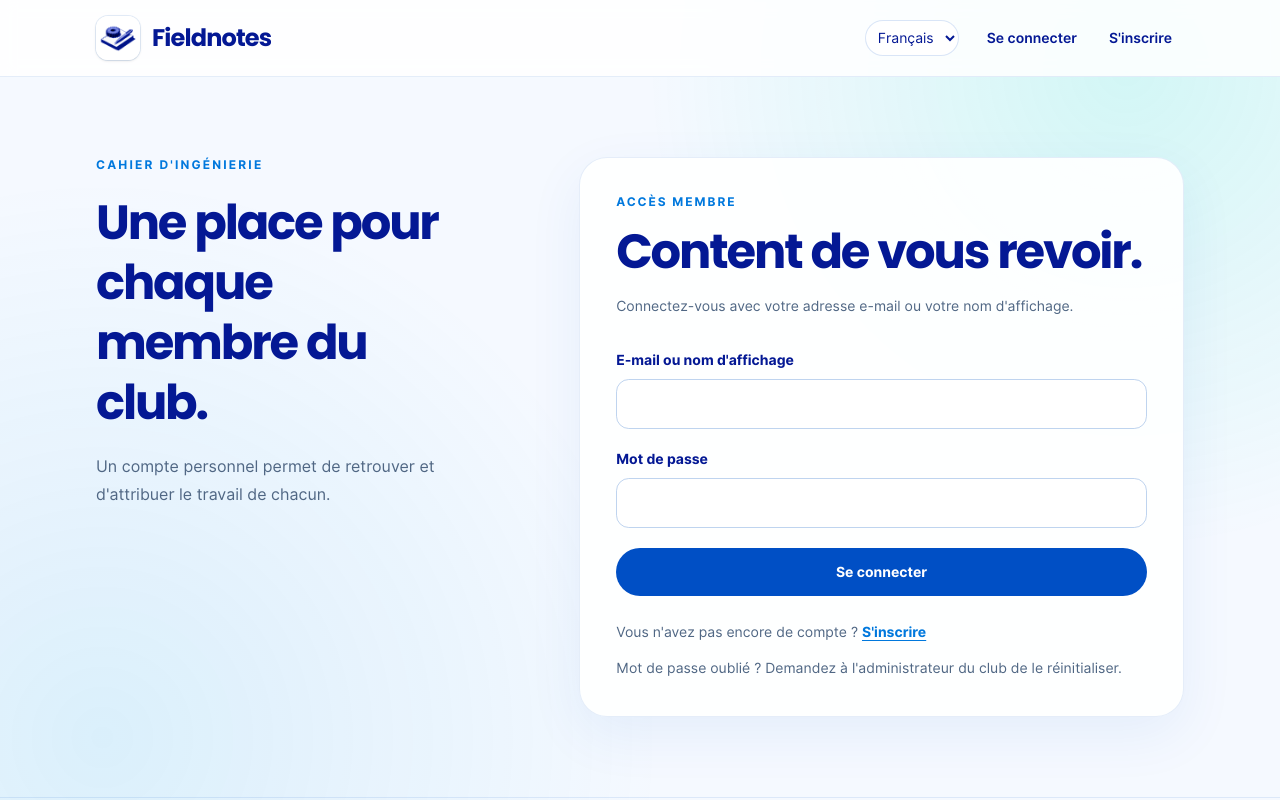
keeps the route and unsaved form values when switching on /login
Type "Mon brouillon" into the field labelled "E-mail ou nom d'affichage".
click(882, 404); type("Mon brouillon")  # box [616,379,1147,429]
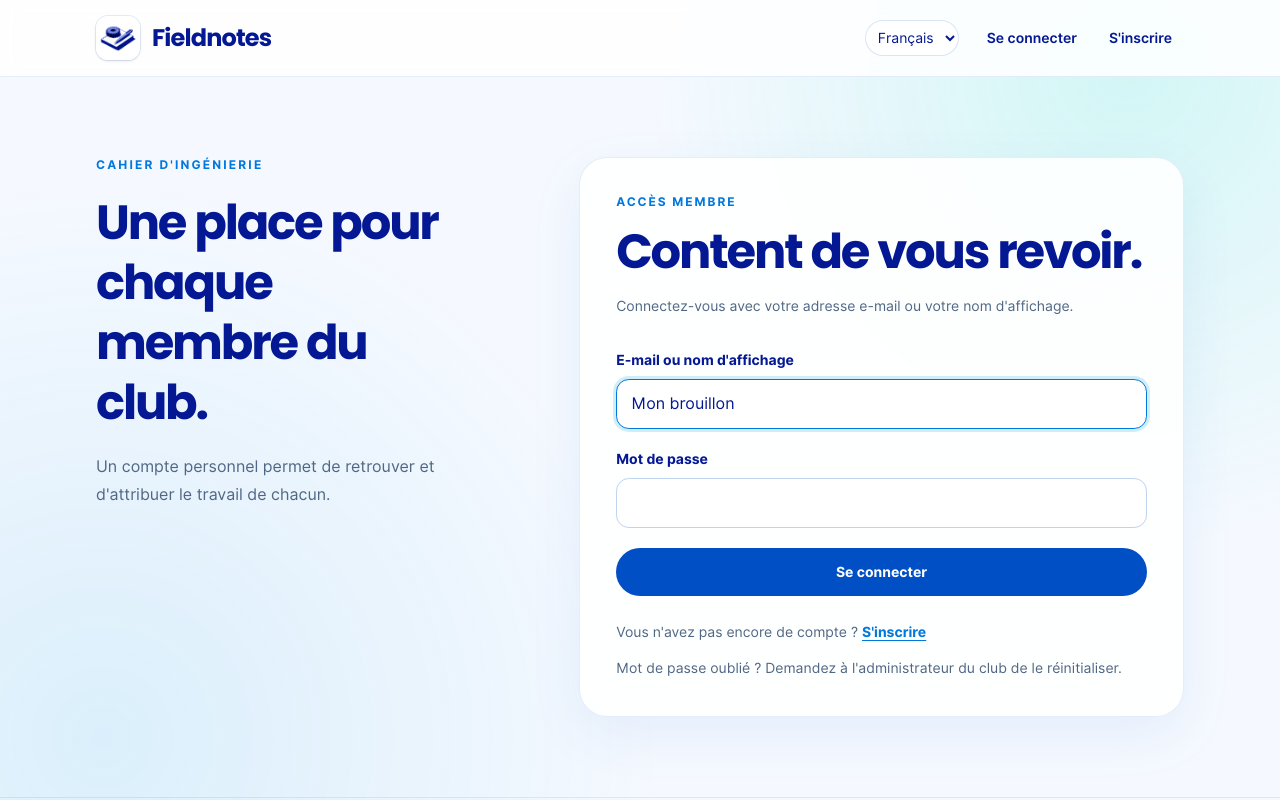
Type "secret-not-submitted" into the password field labelled "Mot de passe".
click(882, 503); type("secret-not-submitted")  # box [616,478,1147,528]
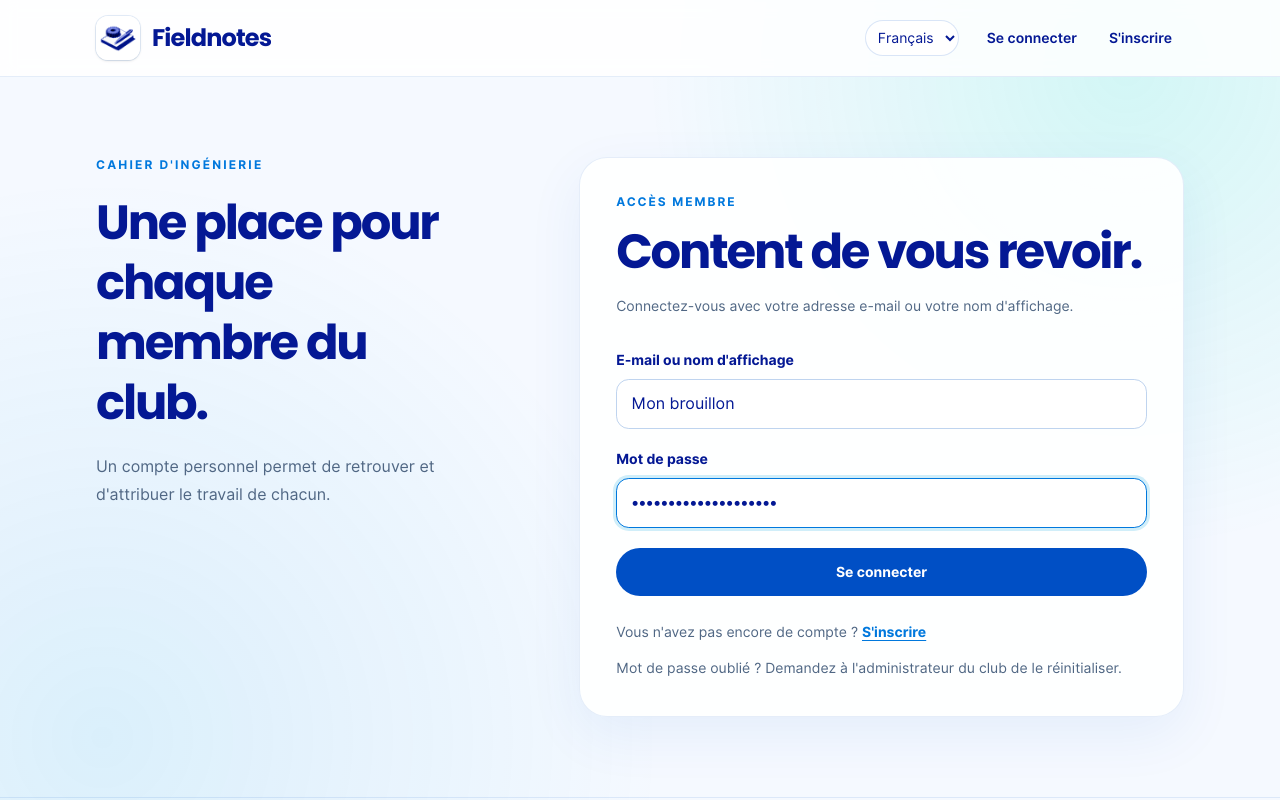
Select "English" in the dropdown named "Langue" at {"x": 912, "y": 38}, box [865,20,959,56]
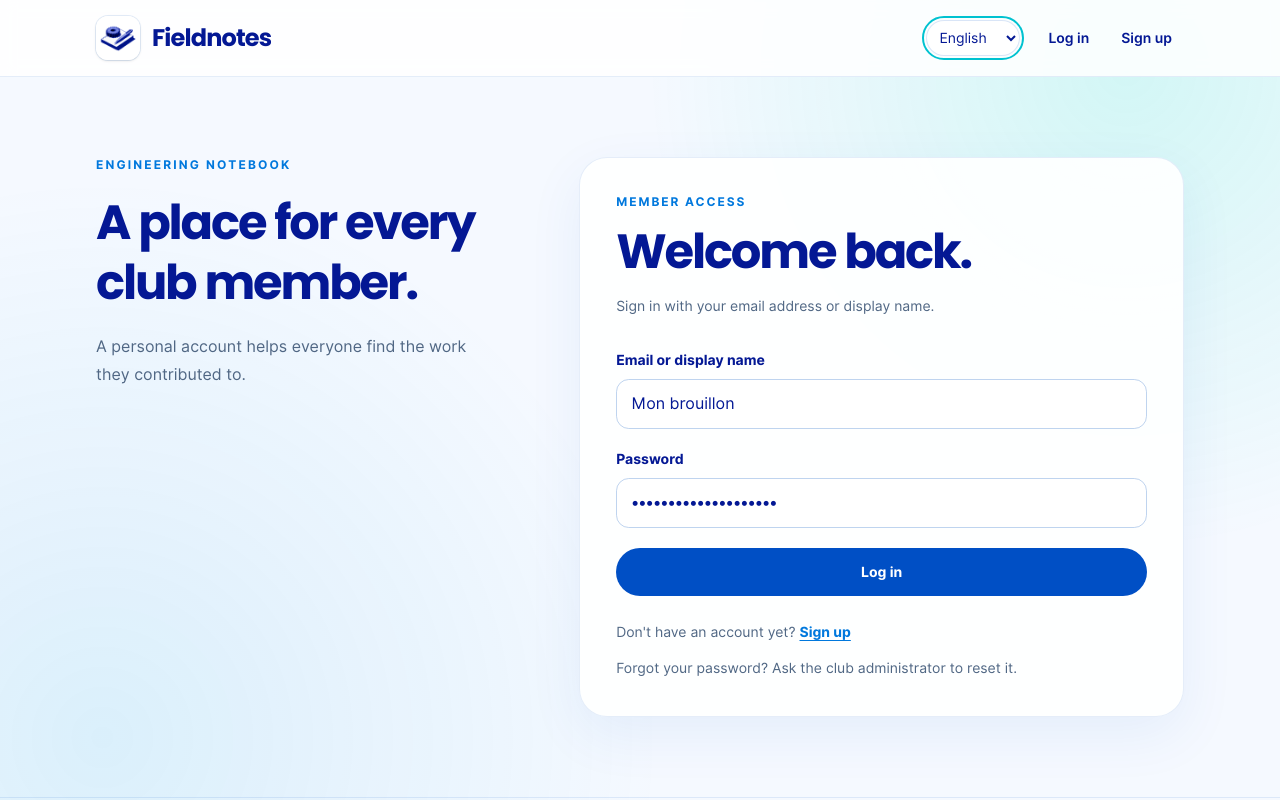
expect the link "Log in" is shown: met, box [1048,30,1089,46]
